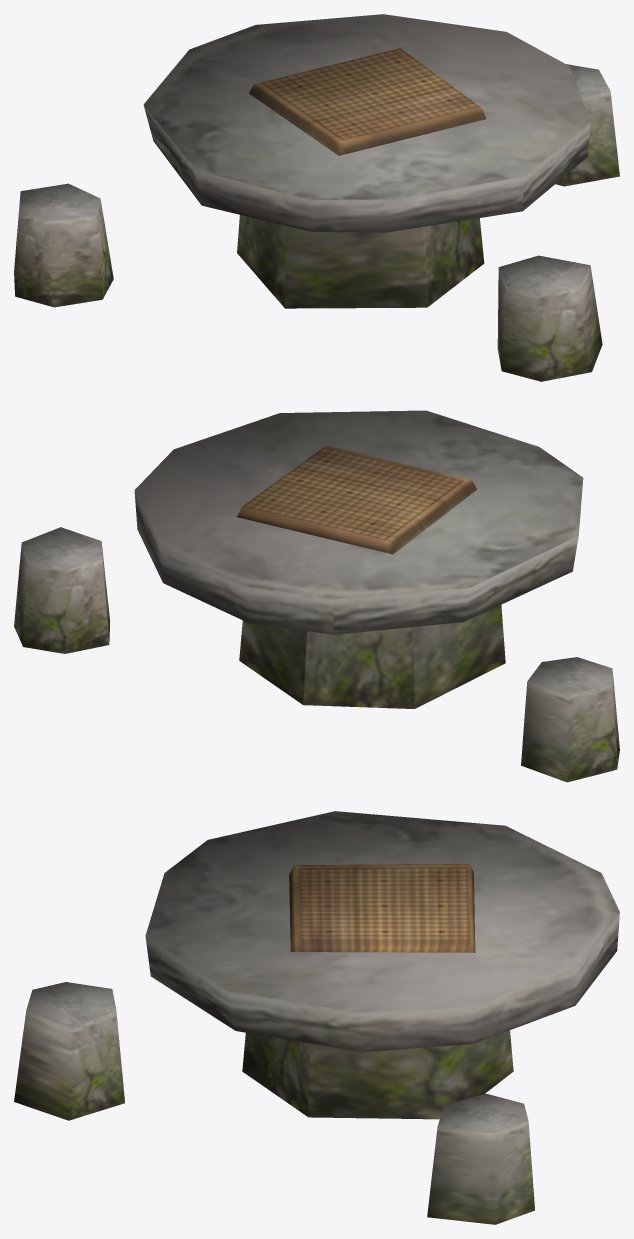
The model's file is shuyoco_StoneDesk_1.FBX.
3 renders of one model, top to bottom at view 1: azimuth 30°, elevation 25°; view 2: azimuth 150°, elevation 25°; view 3: azimuth 270°, elevation 25°, orthographic. The views are drawn at different scales.
Parts seen in each view (by area): view 1: shuyoco_8_001; view 2: shuyoco_8_001; view 3: shuyoco_8_001.
Part boxes in pixels (x1,y1,x2,y2): shuyoco_8_001: (14, 14, 619, 381); shuyoco_8_001: (14, 410, 619, 782); shuyoco_8_001: (14, 811, 619, 1224).
Bounding box in the file's own units: 980 × 257 × 815.
